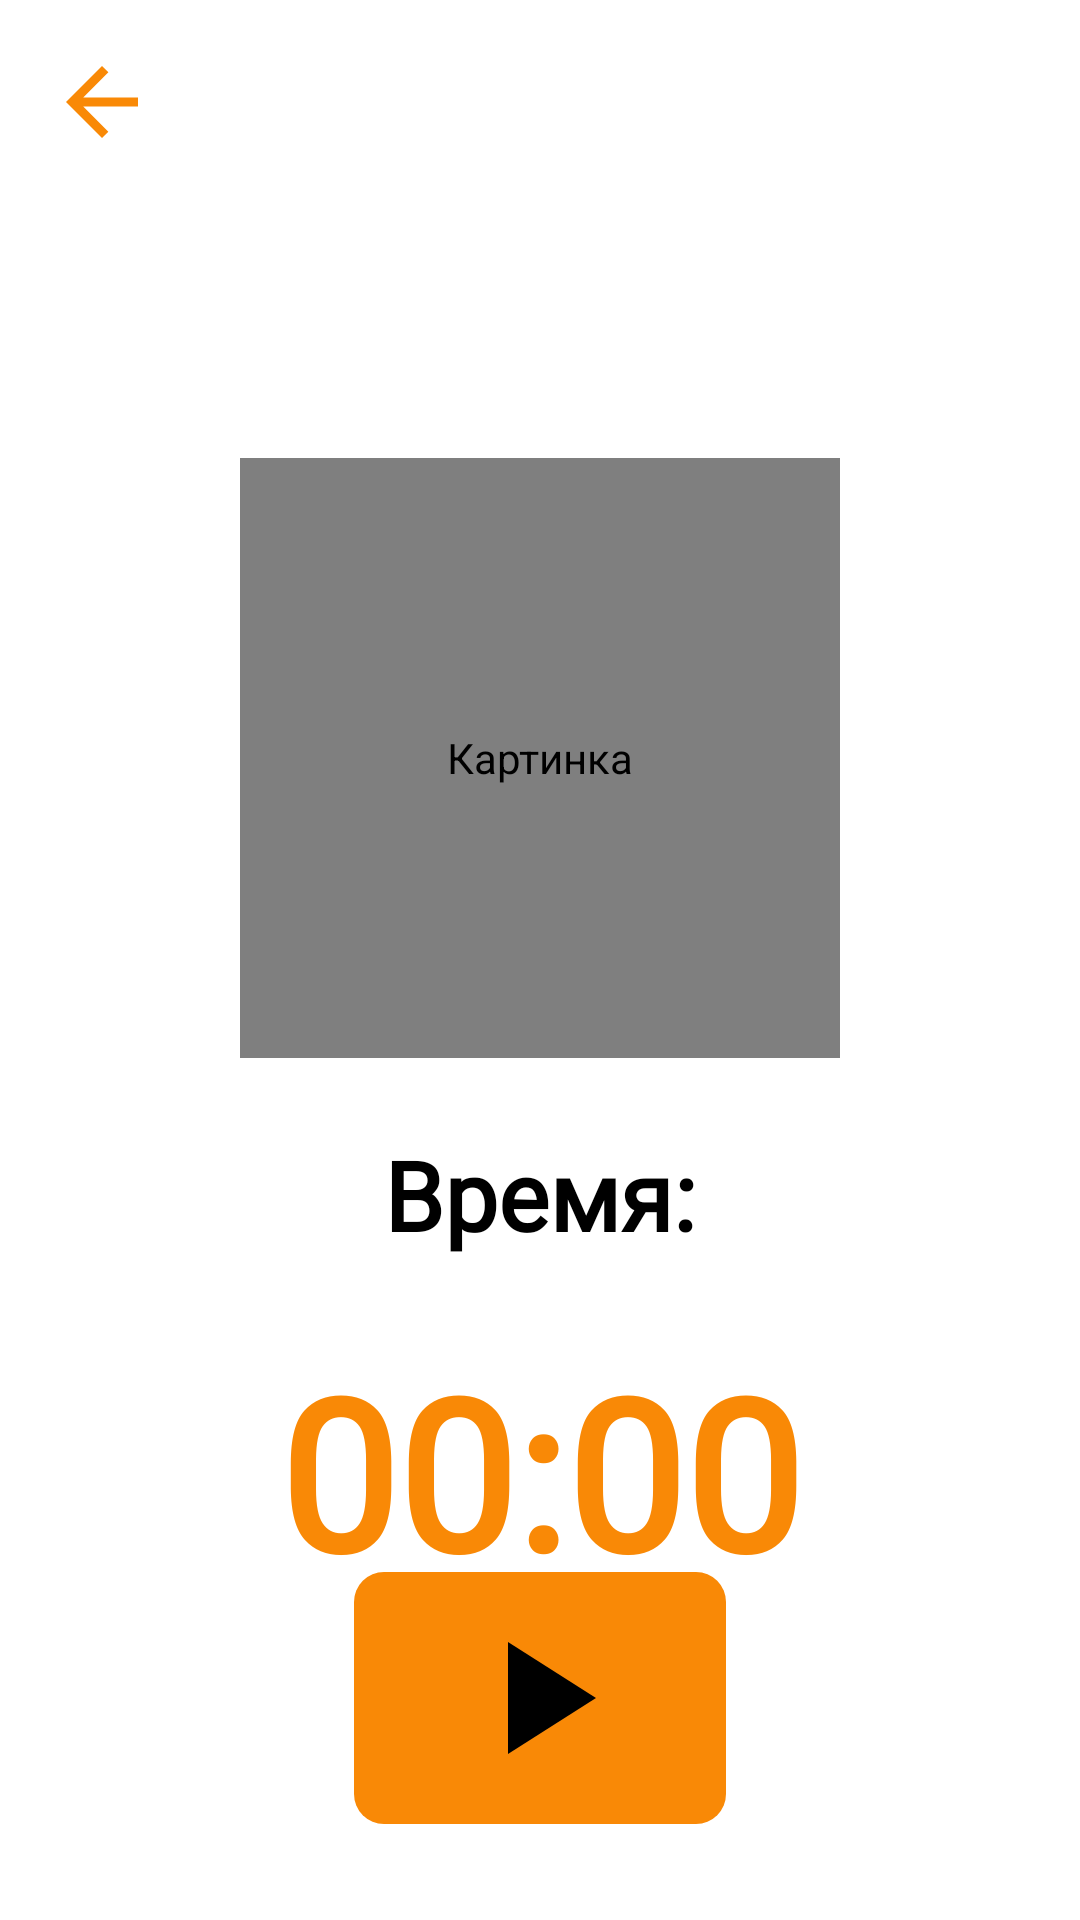

Named icons in this screenshot (1080x1920) and their centers, point (x, y):
arrow back: point (102, 102)
